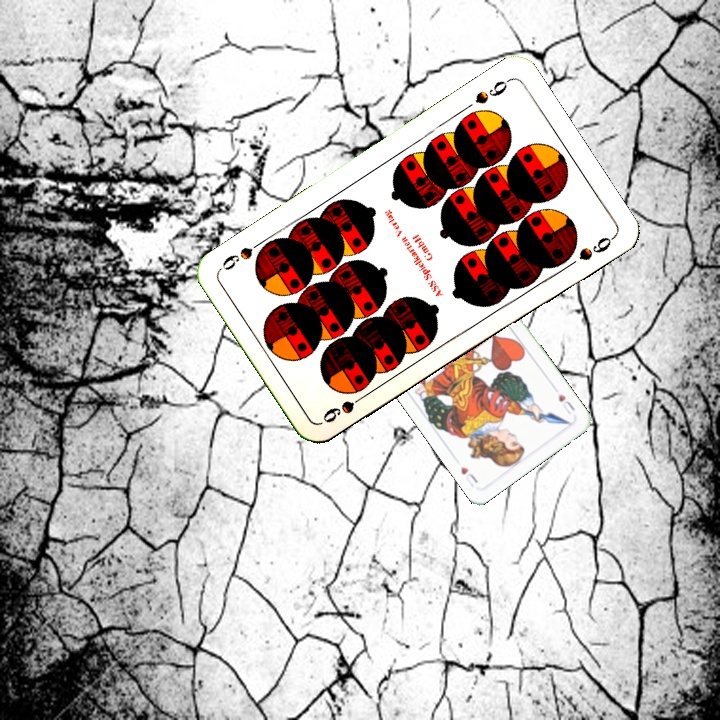HU: (554, 390, 577, 417)
S9: (318, 388, 372, 426), (471, 74, 513, 107)
